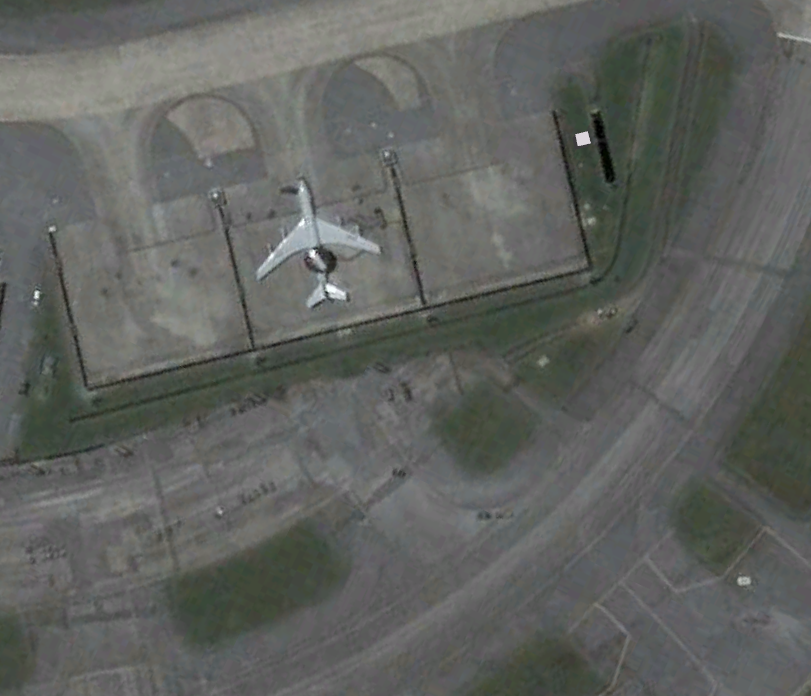A7: (248, 167, 388, 313)
